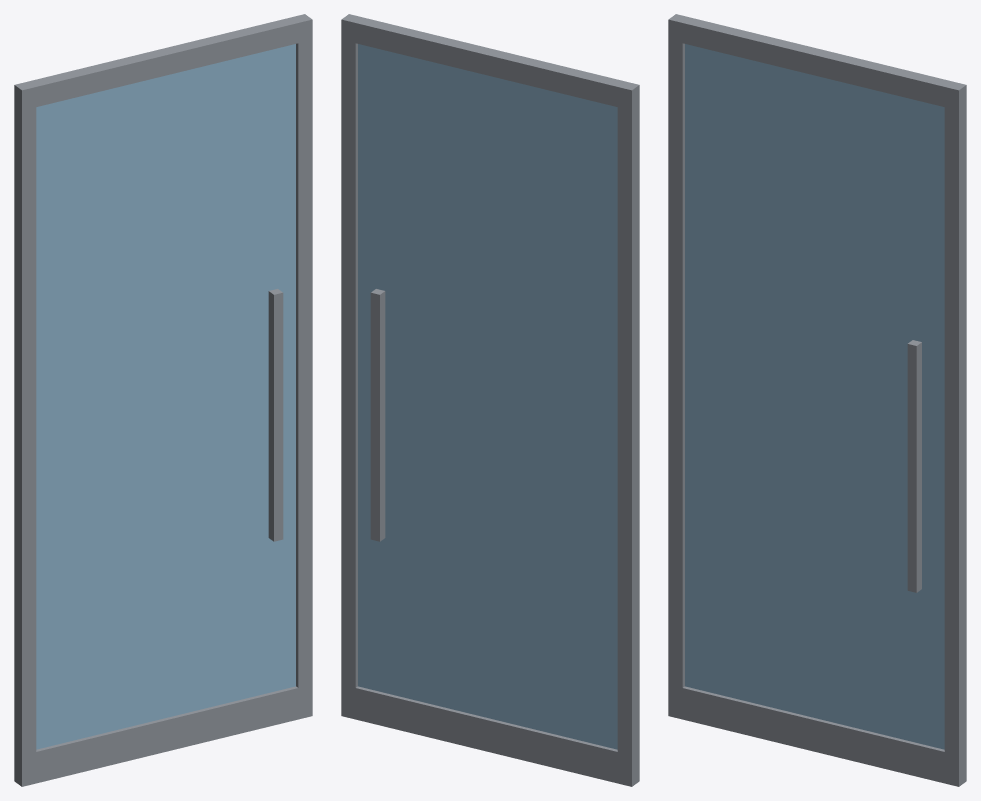
File: SM_Door_glass_112x255.fbx
3 renders of one model, left to right at view 1: azimuth 30°, elevation 25°; view 2: azimuth 150°, elevation 25°; view 3: azimuth 330°, elevation 25°, orthographic.
Visible parts, largest first — view 1: SM_Door_glass_112x255; view 2: SM_Door_glass_112x255; view 3: SM_Door_glass_112x255.
Boxes of the visible parts, x1,y1,x2,y2 form: SM_Door_glass_112x255: [14, 14, 312, 786]; SM_Door_glass_112x255: [341, 14, 639, 786]; SM_Door_glass_112x255: [668, 14, 966, 786].
Bounding box in the file's own units: 1.11 × 2.54 × 0.135.
